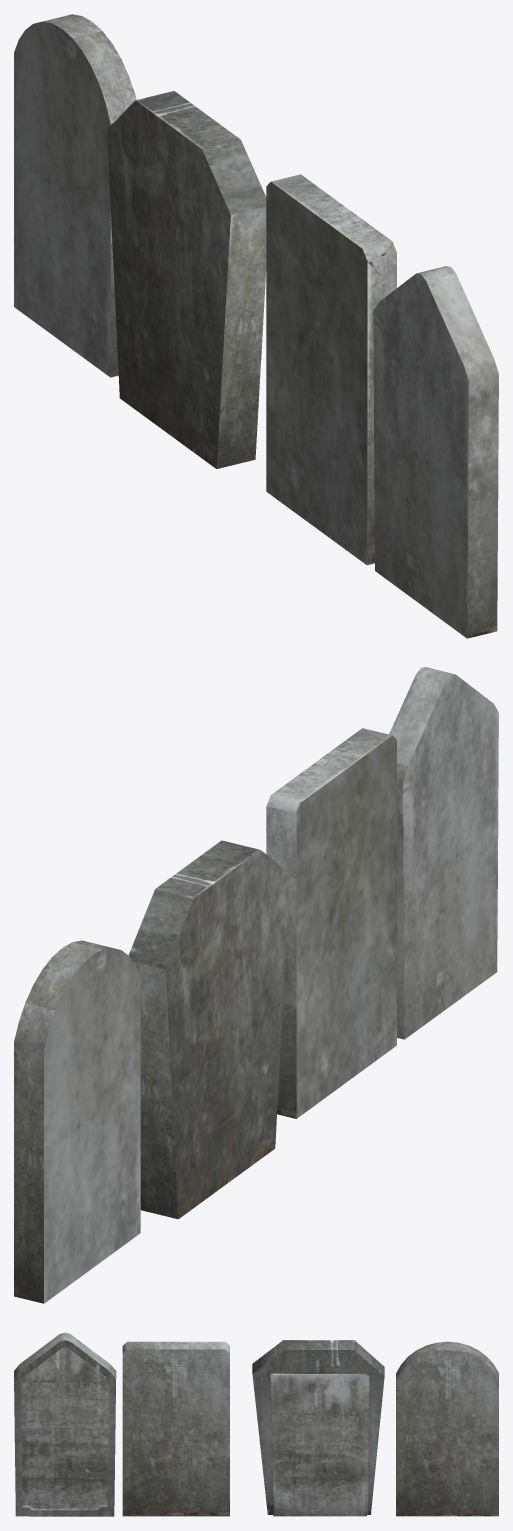
File: gravestones3456.glb
3 renders of one model, top to bottom at view 1: azimuth 30°, elevation 25°; view 2: azimuth 150°, elevation 25°; view 3: azimuth 270°, elevation 25°, orthographic. The views are drawn at different scales.
Parts seen in each view (by area): view 1: Tombstone_3, Tombstone_1, Tombstone_2, Tombstone_4; view 2: Tombstone_3, Tombstone_4, Tombstone_2, Tombstone_1; view 3: Tombstone_3, Tombstone_2, Tombstone_4, Tombstone_1.
Boxes of the visible parts, x1,y1,x2,y2 form: Tombstone_3: (107, 91, 266, 468); Tombstone_1: (373, 266, 498, 638); Tombstone_2: (266, 174, 396, 564); Tombstone_4: (14, 14, 136, 377); Tombstone_3: (128, 840, 289, 1219); Tombstone_4: (14, 940, 140, 1303); Tombstone_2: (266, 728, 396, 1118); Tombstone_1: (389, 667, 498, 1039); Tombstone_3: (252, 1340, 384, 1516); Tombstone_2: (122, 1341, 229, 1516); Tombstone_4: (396, 1341, 498, 1516); Tombstone_1: (14, 1332, 116, 1516).
Bounding box in the file's own units: 11.69 × 82.68 × 206.
Materials: 1 (1 with a texture image).
